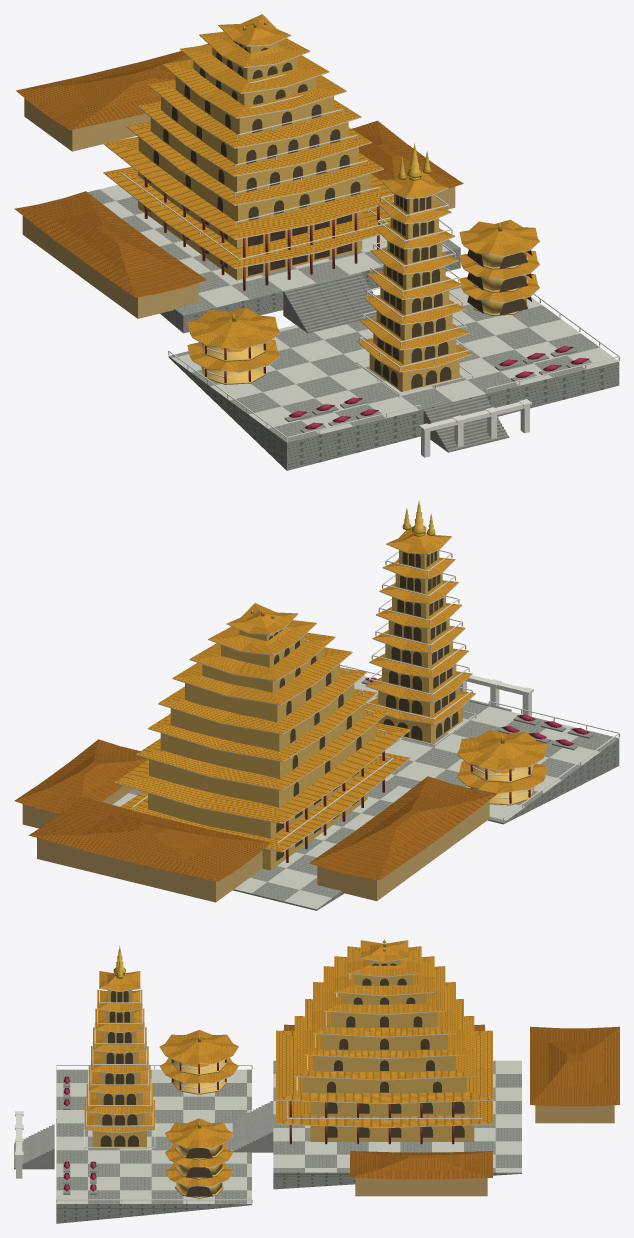
Rendered from van-linh-mid.glb.
3 views of the same model, one above another, from view 1: azimuth 30°, elevation 25°; view 2: azimuth 150°, elevation 25°; view 3: azimuth 270°, elevation 25° (orthographic). The views are drawn at different scales.
Visible parts, largest first — view 1: van-linh-mid; view 2: van-linh-mid; view 3: van-linh-mid.
Boxes of the visible parts, x1=… form: van-linh-mid: x1=14, y1=14, x2=619, y2=470; van-linh-mid: x1=14, y1=499, x2=619, y2=910; van-linh-mid: x1=14, y1=939, x2=619, y2=1223.
Size of the model in its own units: 66.5 by 45.66 by 114.
Materials: 1 (1 with a texture image).
